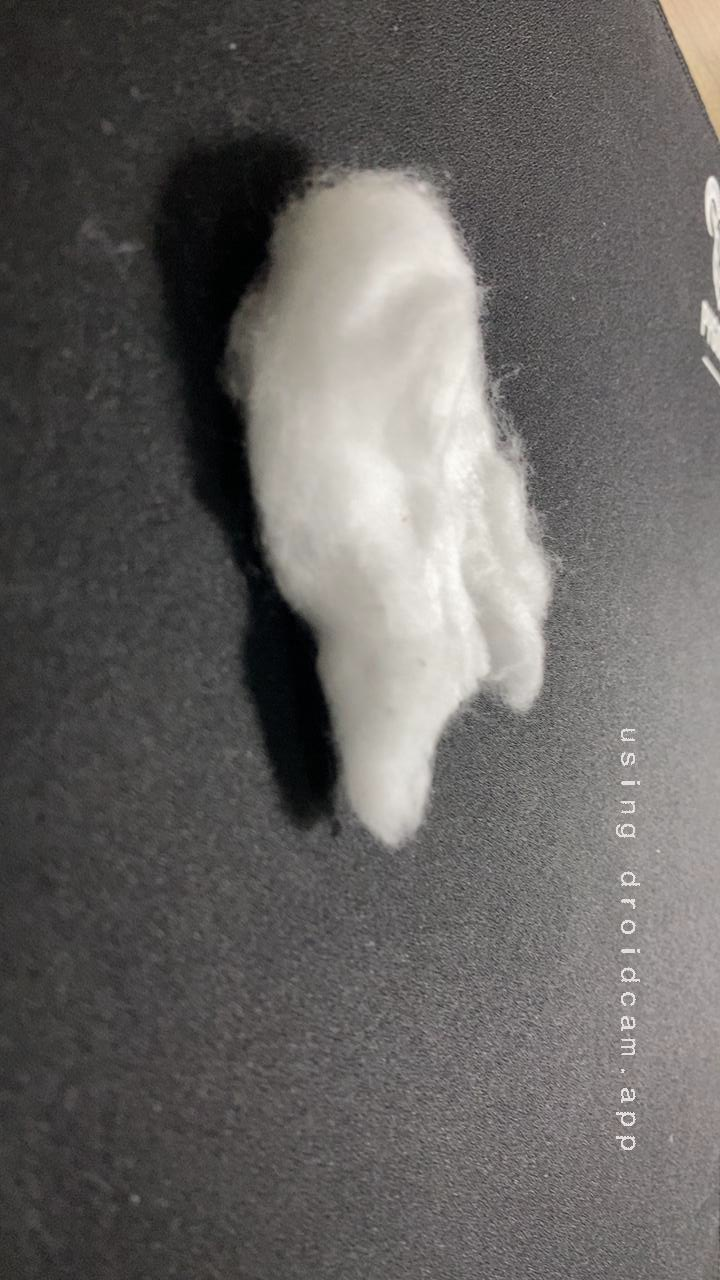cotton: (183, 131, 626, 892)
